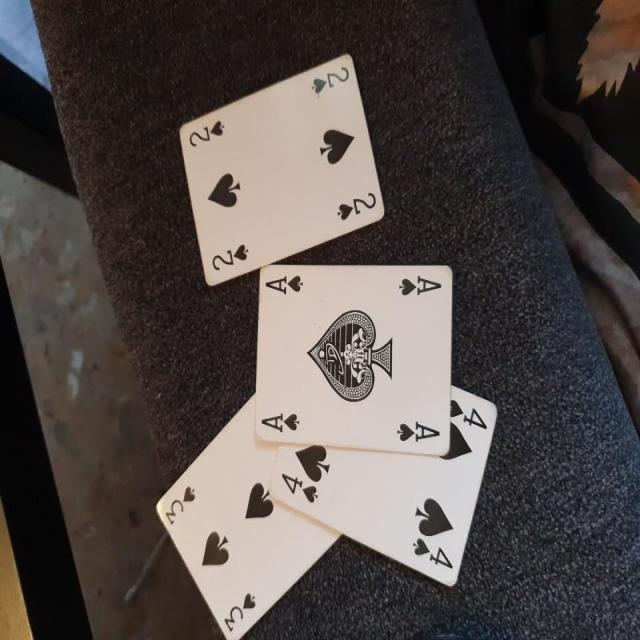2 Spades: (176, 52, 398, 284)
3 Spades: (147, 392, 285, 640)
4 Spades: (274, 371, 512, 593)
A Spades: (252, 257, 456, 460)
